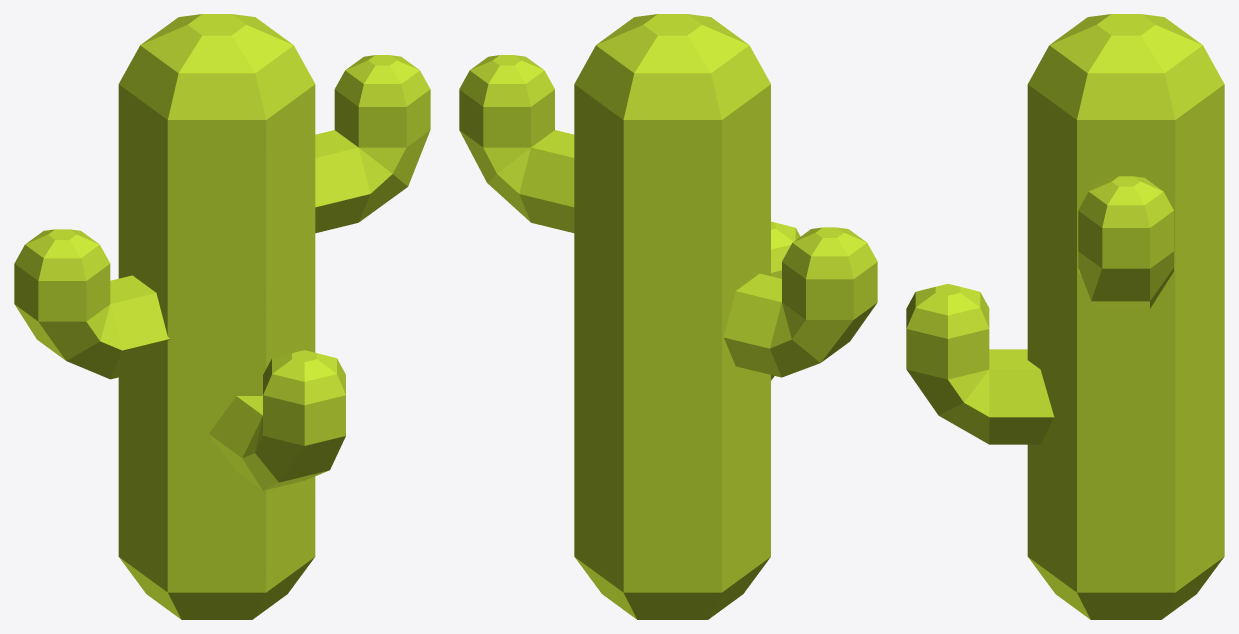
File: Desert_Cactus3.fbx
The picture shows the model from 3 angles, left to right: view 1: azimuth 30°, elevation 25°; view 2: azimuth 150°, elevation 25°; view 3: azimuth 270°, elevation 25°; orthographic projection.
Parts seen in each view (by area): view 1: Cylinder.008; view 2: Cylinder.008; view 3: Cylinder.008.
Boxes of the visible parts, left/top/right/bottom form: Cylinder.008: left=14, top=14, right=430, bottom=619; Cylinder.008: left=459, top=14, right=877, bottom=619; Cylinder.008: left=906, top=14, right=1224, bottom=619.
Bounding box in the file's own units: 263 × 364 × 184.
